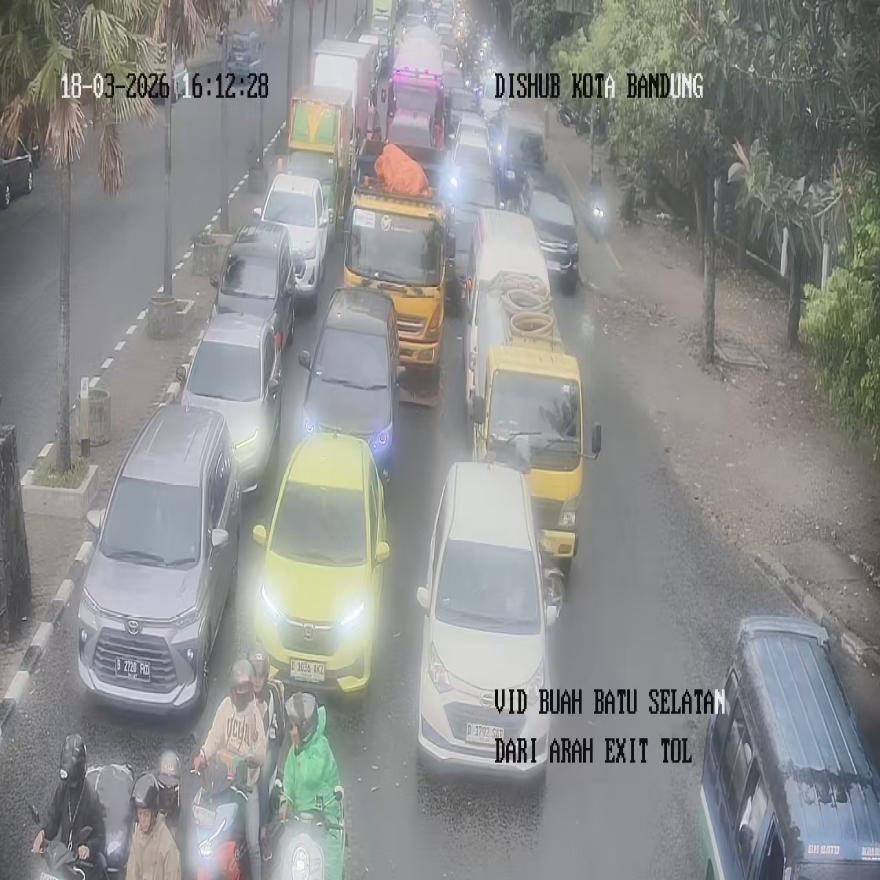Mobil: (76, 401, 241, 717), (696, 614, 879, 878), (416, 462, 562, 780), (252, 430, 388, 699), (297, 287, 400, 479), (178, 310, 283, 492), (210, 221, 297, 350), (255, 169, 331, 306), (520, 166, 579, 292)
Motor: (187, 755, 254, 880), (265, 786, 346, 880), (28, 803, 107, 880), (586, 168, 606, 238)
Truk berat: (462, 209, 600, 577), (341, 180, 454, 405)
